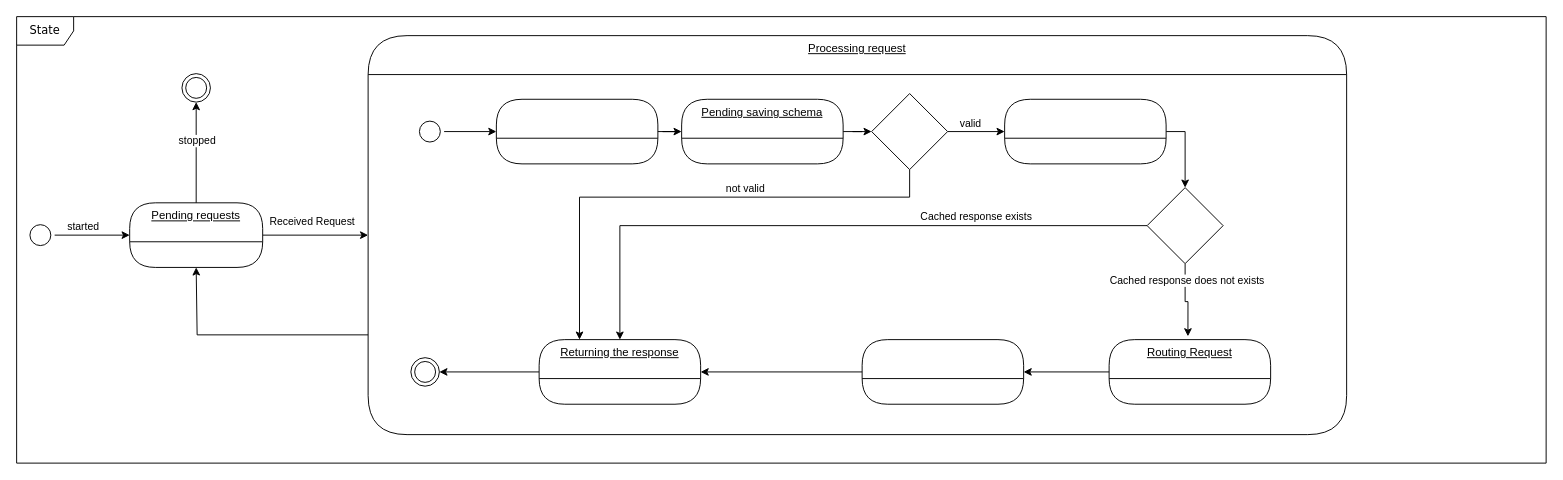
The diagram is 1563 pixels wide and 480 high, and some of its shapes have lost their labels. Here are the shapes that lost their labels. From the top down, the centre of each, then its label:
pixel 576 131: Pending validation
pixel 1085 131: Pending looking for cache
pixel 942 371: Request Response Caching
